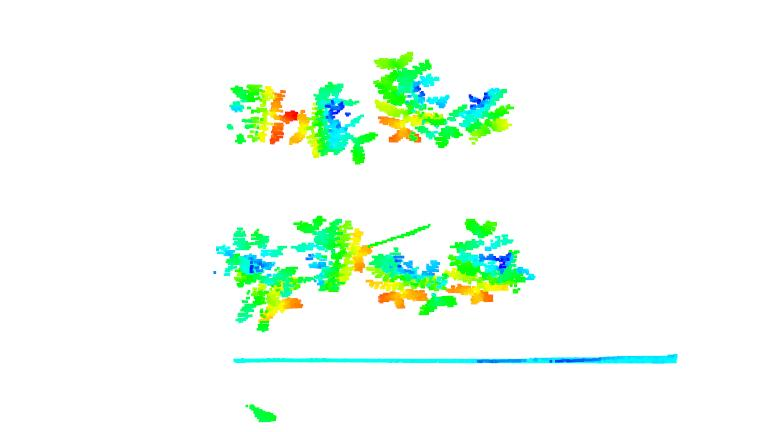chickpea: (215, 225, 304, 333), (445, 218, 530, 305), (371, 52, 450, 145), (292, 82, 379, 165), (365, 244, 455, 316), (294, 212, 370, 291), (220, 79, 295, 147), (448, 88, 516, 144)
